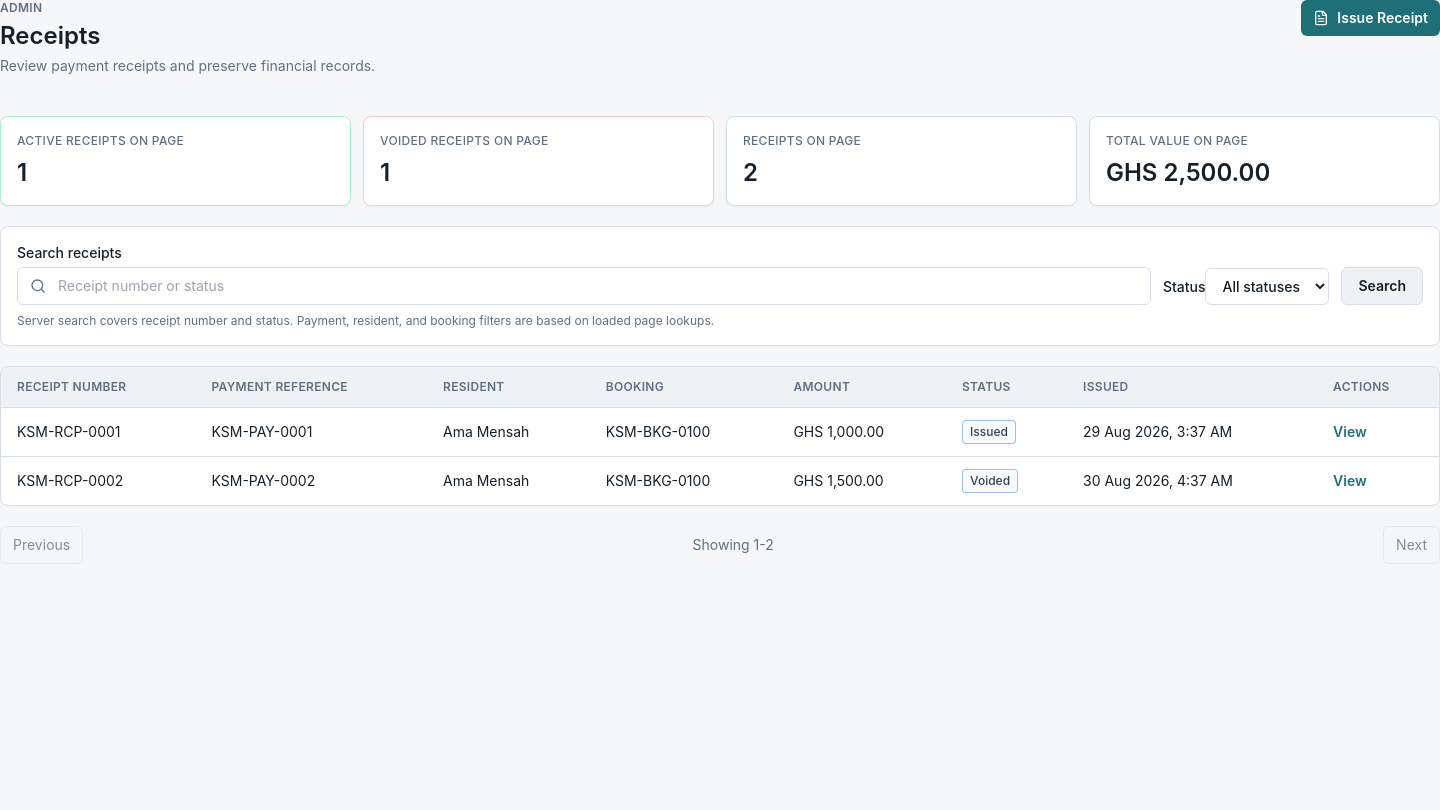
Test: ReceiptsPage › keeps voided receipts visible and distinguishable
Check: the text "KSM-RCP-0001" is shown, box x1=1 y1=408 x2=196 y2=456
Click the button "View" in the row of "KSM-RCP-0002" at (1350, 481), box x1=1333 y1=471 x2=1367 y2=491
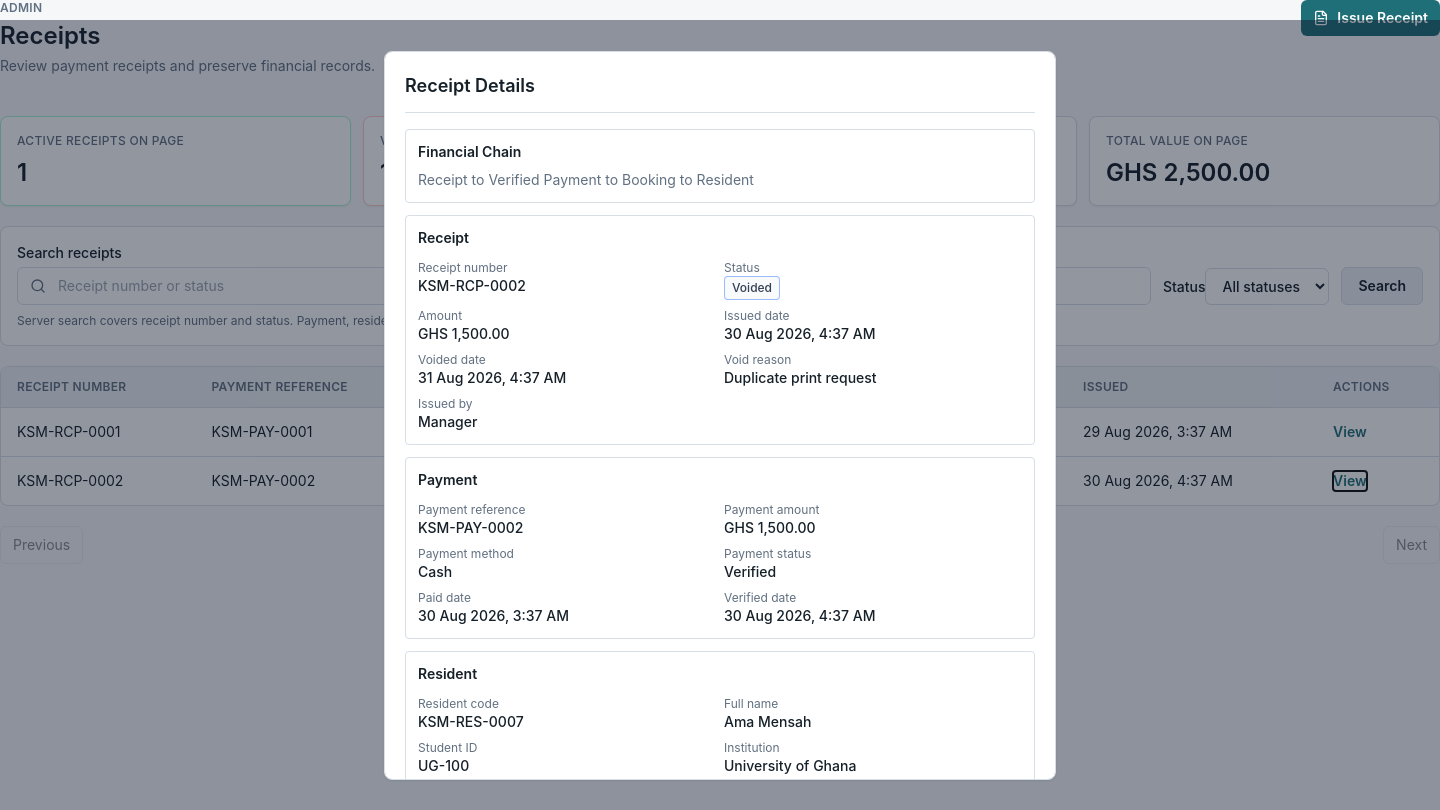
Check: the text "Duplicate print request" is shown, box x1=724 y1=368 x2=877 y2=386
